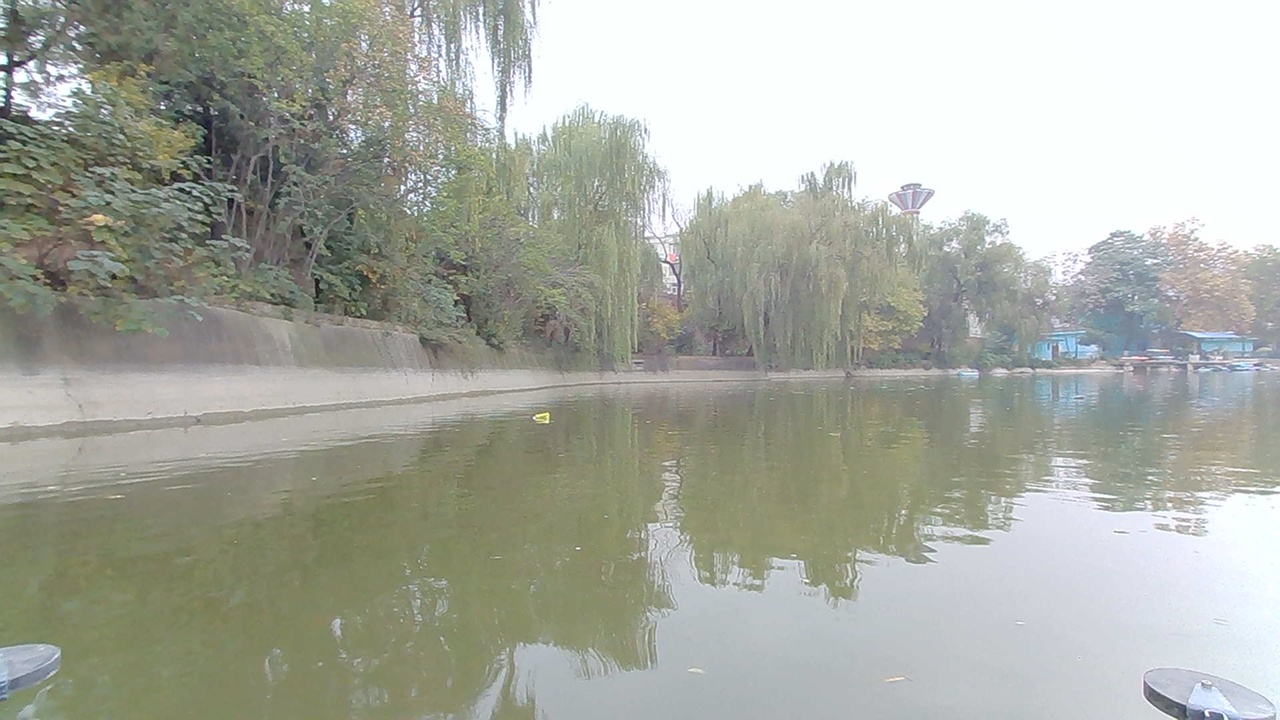bottle: (527, 406, 561, 429), (1066, 391, 1095, 406)
